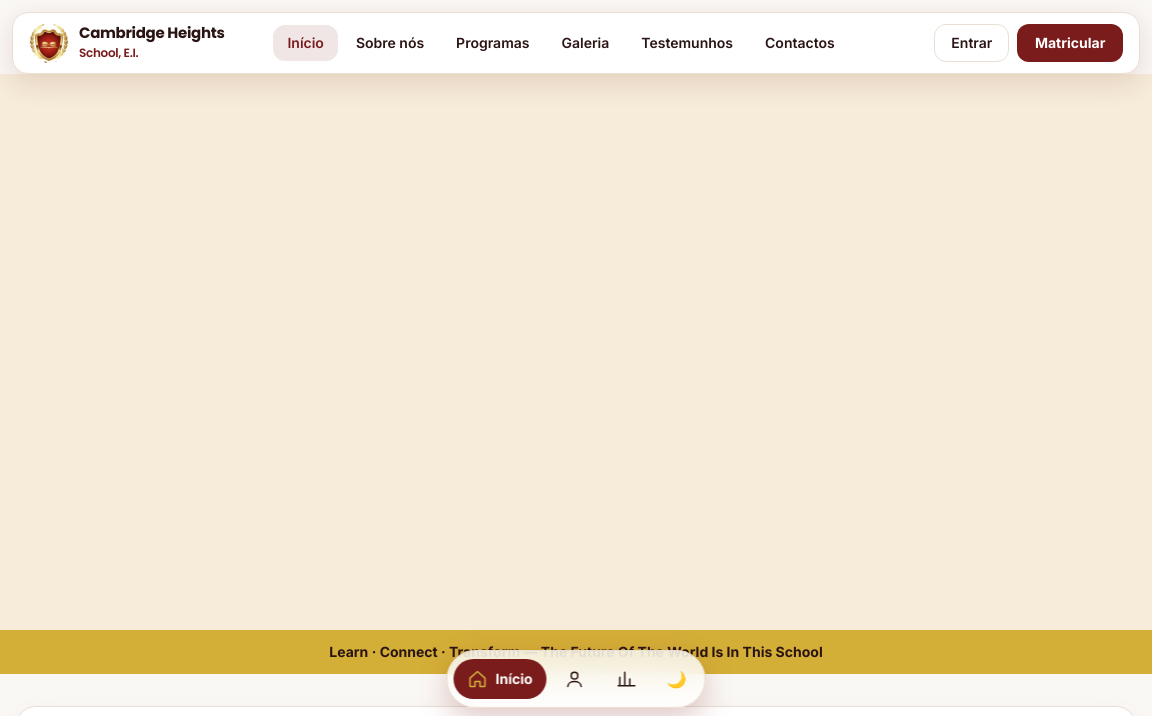
Test: login recusa palavra-passe errada
Click the button named "Área do Pai" at (574, 679), box [550,659,598,699]
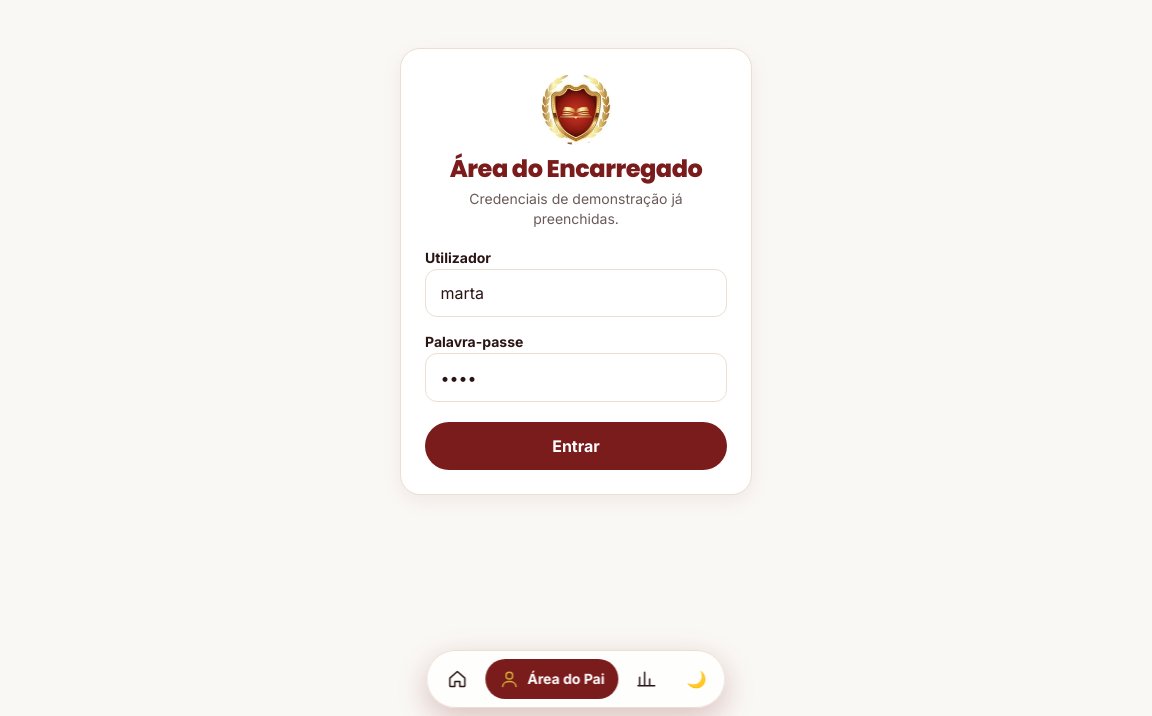
Type "errada" into the password field labelled "Palavra-passe" at (576, 378), box [425,353,727,402]
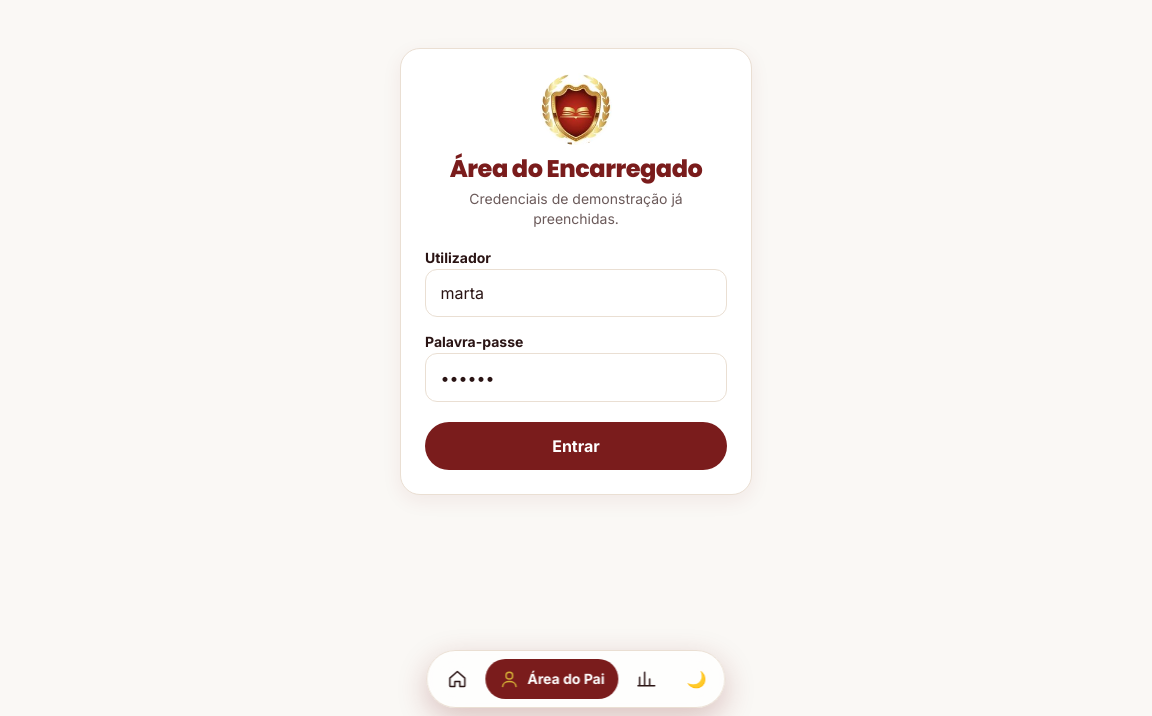
Click the button "Entrar" at (576, 446), box [425,422,727,470]
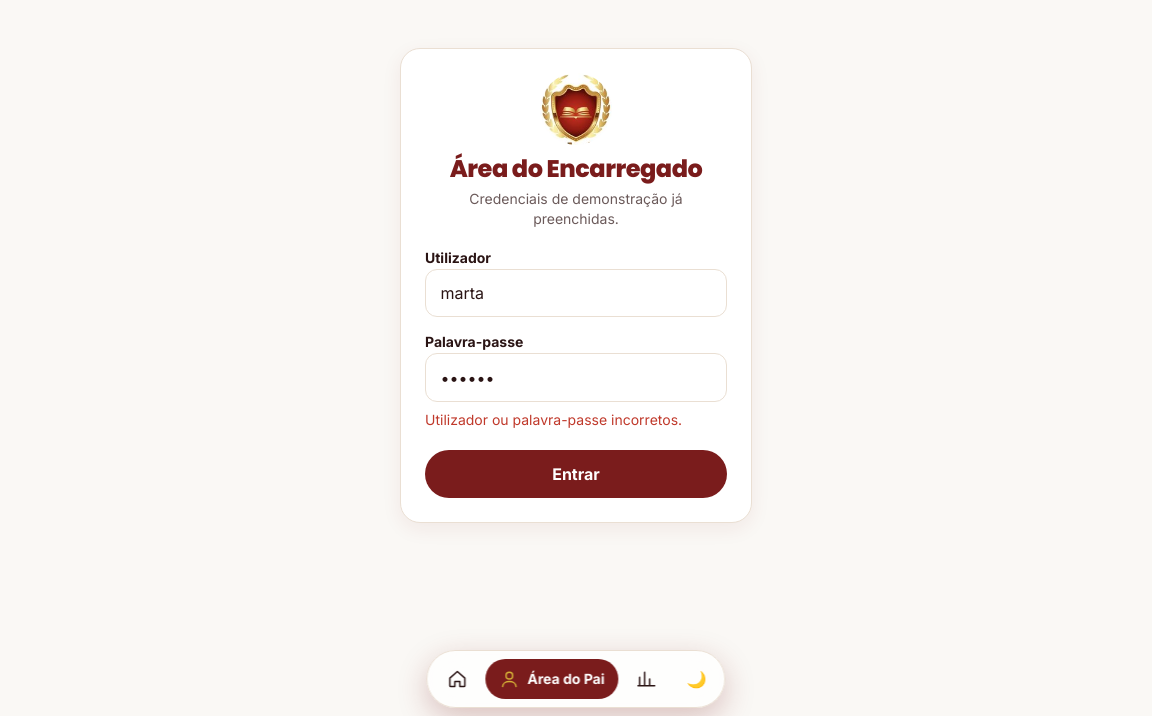
Expected: the message "Utilizador ou palavra-passe incorretos." is shown, [425,410,727,430]
